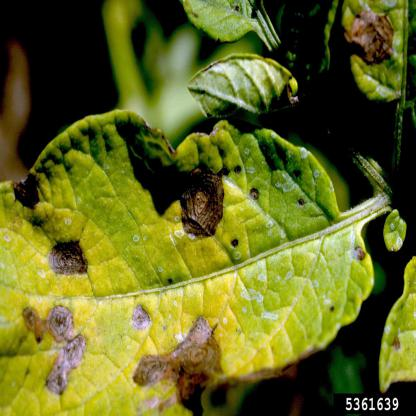Potato leaf early blight: (3, 111, 375, 405), (342, 0, 416, 102), (379, 250, 416, 379)
